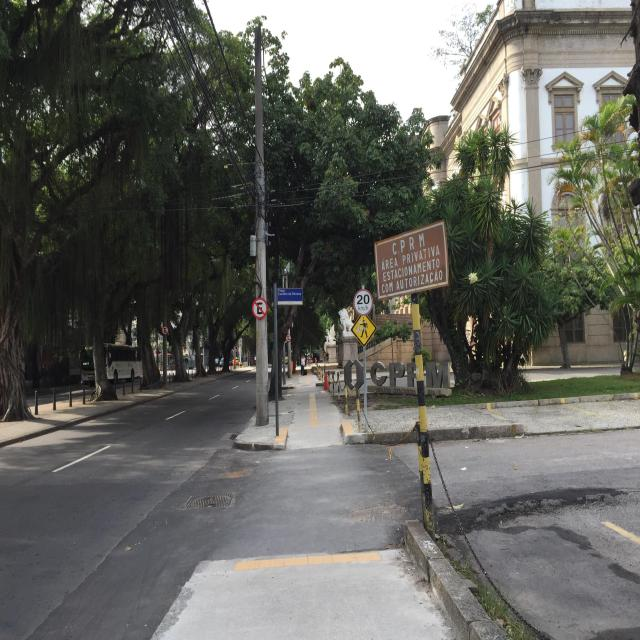Good: (186, 492, 235, 511)
